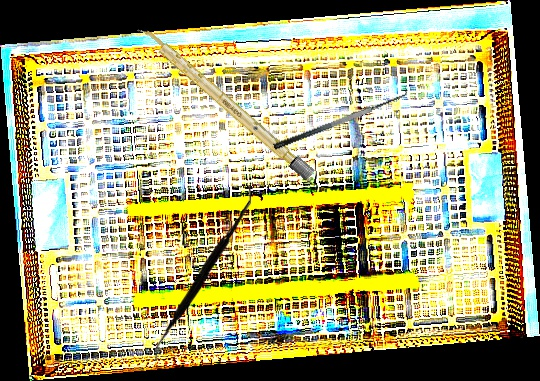Scalpel Handle: (135, 22, 316, 182)
Spatula Surgical: (150, 184, 255, 362), (268, 82, 412, 152)
